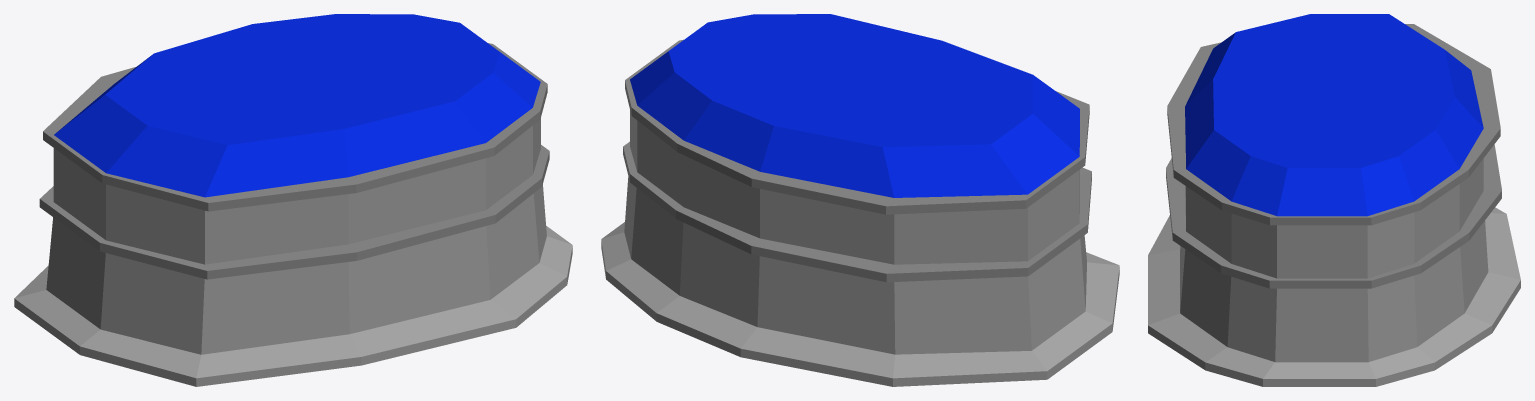
The model's file is p-bld-background-4.glb.
3 renders of one model, left to right at view 1: azimuth 30°, elevation 25°; view 2: azimuth 150°, elevation 25°; view 3: azimuth 270°, elevation 25°, orthographic. The views are drawn at different scales.
Visible parts, largest first — view 1: Cube; view 2: Cube; view 3: Cube.
Part boxes in pixels (bbox=[...]): Cube: bbox=[14, 14, 572, 386]; Cube: bbox=[601, 14, 1119, 386]; Cube: bbox=[1148, 14, 1520, 386].
Bounding box in the file's own units: 28.6 × 11.93 × 21.01.
